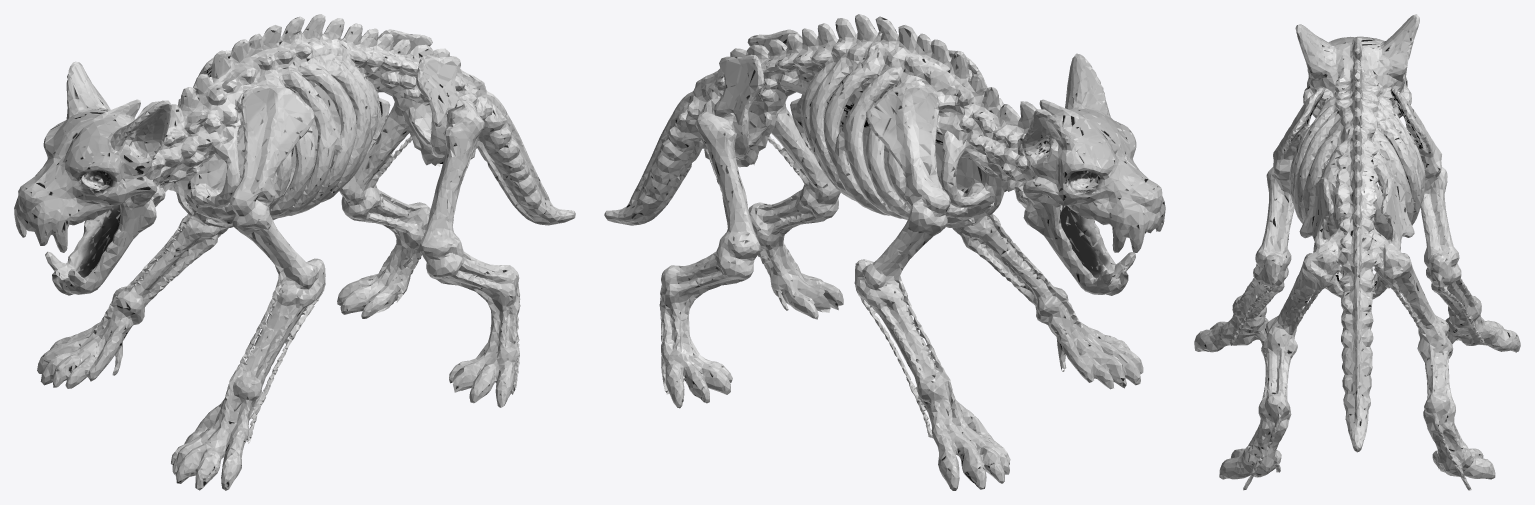
Rendered from esqueleto_animal.glb.
3 renders of one model, left to right at view 1: azimuth 30°, elevation 25°; view 2: azimuth 150°, elevation 25°; view 3: azimuth 270°, elevation 25°, orthographic. The views are drawn at different scales.
Visible parts, largest first — view 1: tmpxbk_dfif.ply; view 2: tmpxbk_dfif.ply; view 3: tmpxbk_dfif.ply.
Boxes of the visible parts, x1,y1,x2,y2 form: tmpxbk_dfif.ply: [14, 14, 575, 490]; tmpxbk_dfif.ply: [604, 14, 1165, 490]; tmpxbk_dfif.ply: [1194, 14, 1520, 490].
Size of the model in its own units: 1.96 by 1.26 by 1.08.
Materials: 1 (1 with a texture image).
